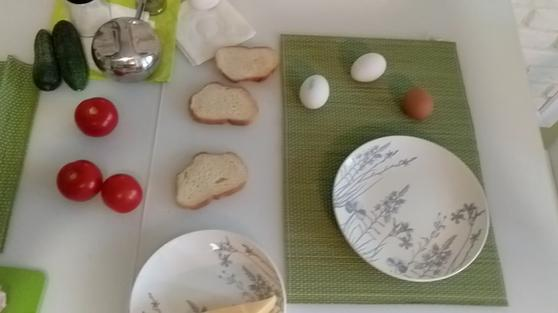cheese: (193, 291, 278, 313)
cucumber: (56, 16, 88, 88), (32, 28, 63, 92)
egg: (400, 81, 436, 117), (296, 72, 331, 109), (350, 53, 388, 83)
tomato: (56, 160, 104, 199), (100, 172, 142, 216), (77, 98, 120, 140)
white_bread: (175, 148, 252, 212), (188, 78, 259, 126), (211, 44, 281, 80)
